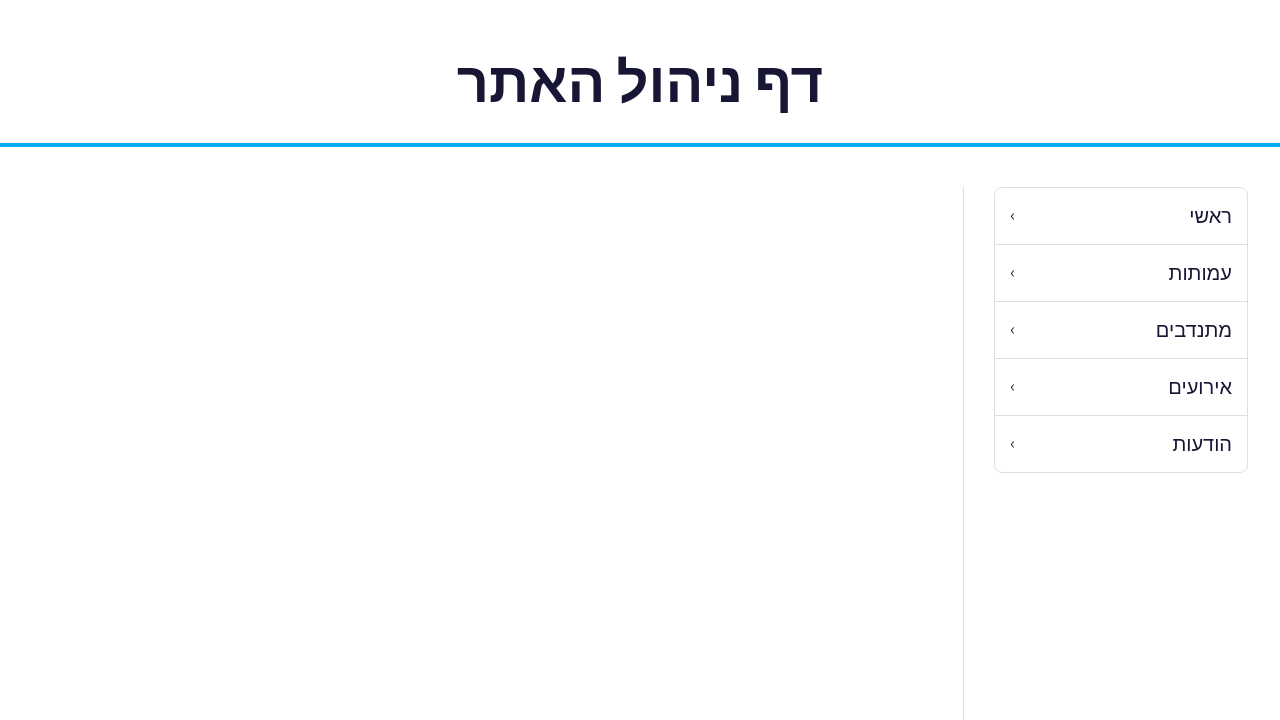
it: Dashboard › renders Dashboard correctly
The width and height of the screenshot is (1280, 720).
Expected: the heading "דף ניהול האתר" is shown, [0, 20, 1279, 147]
# Clicking the menu item updates the selectedType state
What coordinates should you click on to do the following:
click the link "ראשי"
I would click on:
 (1211, 216)
Its box is [1189, 203, 1232, 229].
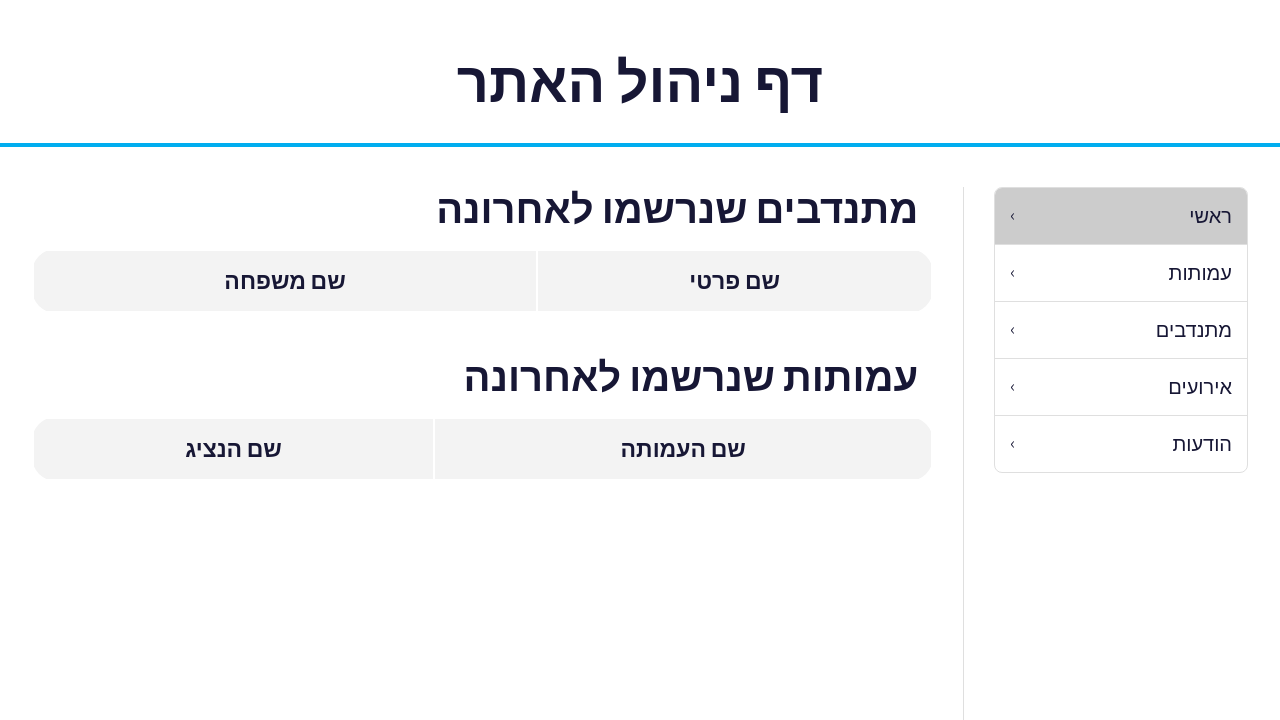
Now the heading "מתנדבים שנרשמו לאחרונה" is shown, box [436, 182, 918, 234]
Now the heading "עמותות שנרשמו לאחרונה" is shown, box [464, 350, 918, 402]
